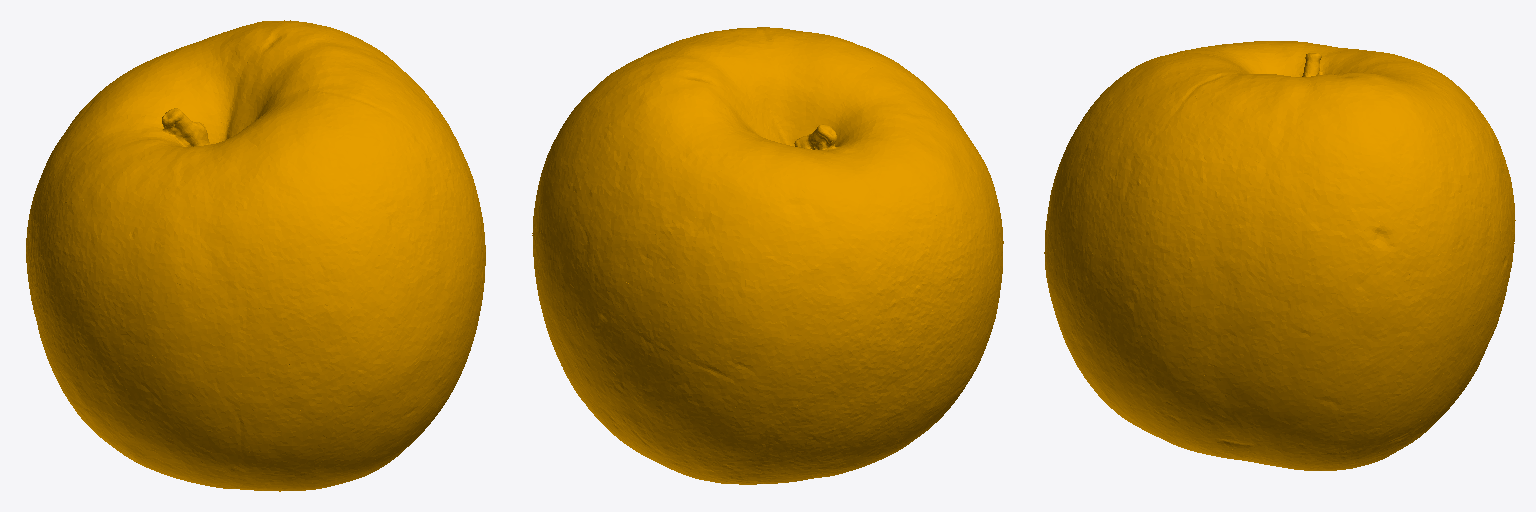
URDF robot description (mesh_object):
<?xml version="1.0" ?>
            <robot name="mesh_object">
            <link name="base">
                <visual>
                    <geometry>
                        <mesh filename="1.obj" scale="0.1 0.1 0.1"/>
                    </geometry>
                </visual>
                <collision>
                    <geometry>
                        <mesh filename="1.obj" scale="0.1 0.1 0.1"/>
                    </geometry>
                </collision>
                <inertial>
                    <origin xyz="0 0 0.0453748785" rpy="0 0 0"/>
                    <mass value="0.5"/>
                    <inertia ixx="0.01" iyy="0.01" izz="0.01" ixy="0" ixz="0" iyz="0"/>
                </inertial>
            </link>
            </robot>
        

--- Render facts (derived) ---
The picture shows the robot from 3 angles, left to right: view 1: azimuth 30°, elevation 25°; view 2: azimuth 150°, elevation 25°; view 3: azimuth 270°, elevation 25°; orthographic projection.
Robot: mesh_object — 1 links, 0 joints (none); root link base; default pose: every joint at zero.
Links seen in each view (by area): view 1: base; view 2: base; view 3: base.
Boxes of the visible links, x1=… form: base: x1=26, y1=20, x2=485, y2=491; base: x1=532, y1=27, x2=1003, y2=484; base: x1=1044, y1=41, x2=1515, y2=470.
Size in the robot's own frame: 0.1007 by 0.1024 by 0.0907 metres.
1 mesh visuals loaded from 1 distinct referenced files (1 OBJ).
